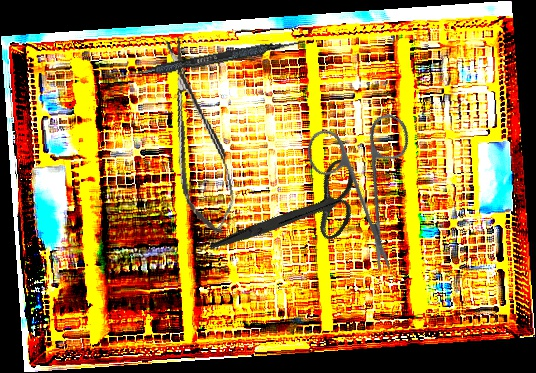Iris Scissors: (270, 84, 462, 276), (209, 126, 376, 304)
Micro Scissor: (153, 32, 241, 239)
Spatula Surgical: (106, 33, 307, 87)
